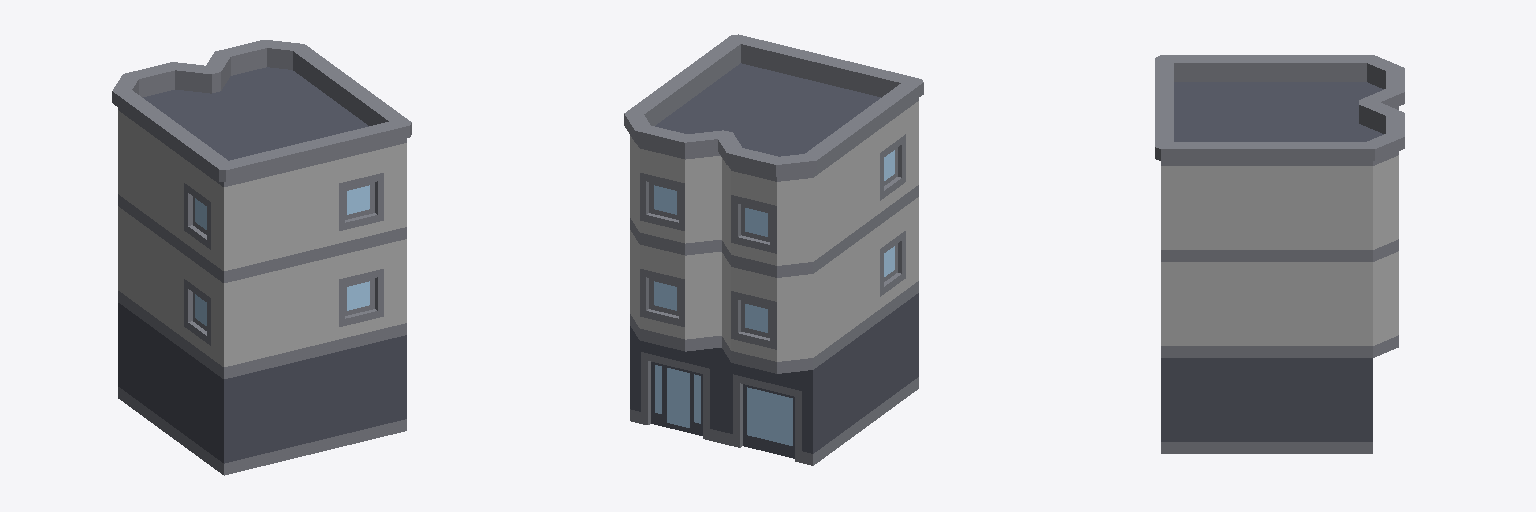
File: small_buildingA.obj
The picture shows the model from 3 angles: view 1: azimuth 30°, elevation 25°; view 2: azimuth 150°, elevation 25°; view 3: azimuth 270°, elevation 25°; orthographic projection.
Visible parts, largest first — view 1: small_buildingA; view 2: small_buildingA; view 3: small_buildingA.
Part boxes in pixels (x1,y1,x2,y2): small_buildingA: (112,40,411,475); small_buildingA: (624,34,923,465); small_buildingA: (1155,55,1404,453).
Bounding box in the file's own units: 0.84 × 1.28 × 0.94.